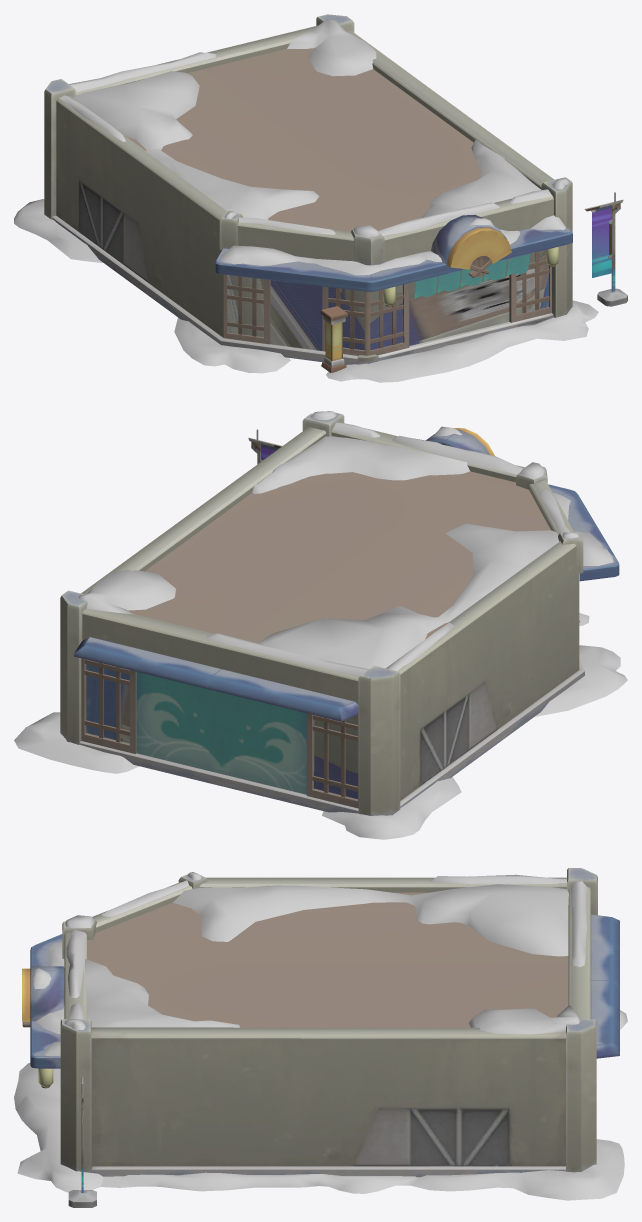
File: pref_sm_city_shop04_snow_lv3.fbx
The picture shows the model from 3 angles, top to bottom: view 1: azimuth 30°, elevation 25°; view 2: azimuth 150°, elevation 25°; view 3: azimuth 270°, elevation 25°; orthographic projection. The views are drawn at different scales.
Parts seen in each view (by area): view 1: sm_city_shop04_snow_lv3, sm_city_shop04b_snow_lv3; view 2: sm_city_shop04_snow_lv3, sm_city_shop04b_snow_lv3; view 3: sm_city_shop04_snow_lv3, sm_city_shop04b_snow_lv3.
Part boxes in pixels (bbox=[...]): sm_city_shop04_snow_lv3: bbox=[44, 14, 627, 372]; sm_city_shop04b_snow_lv3: bbox=[14, 19, 598, 382]; sm_city_shop04_snow_lv3: bbox=[60, 412, 619, 815]; sm_city_shop04b_snow_lv3: bbox=[14, 411, 627, 839]; sm_city_shop04_snow_lv3: bbox=[22, 868, 619, 1207]; sm_city_shop04b_snow_lv3: bbox=[14, 872, 627, 1200].
Size of the model in its own units: 18.46 by 6.3 by 22.88.
